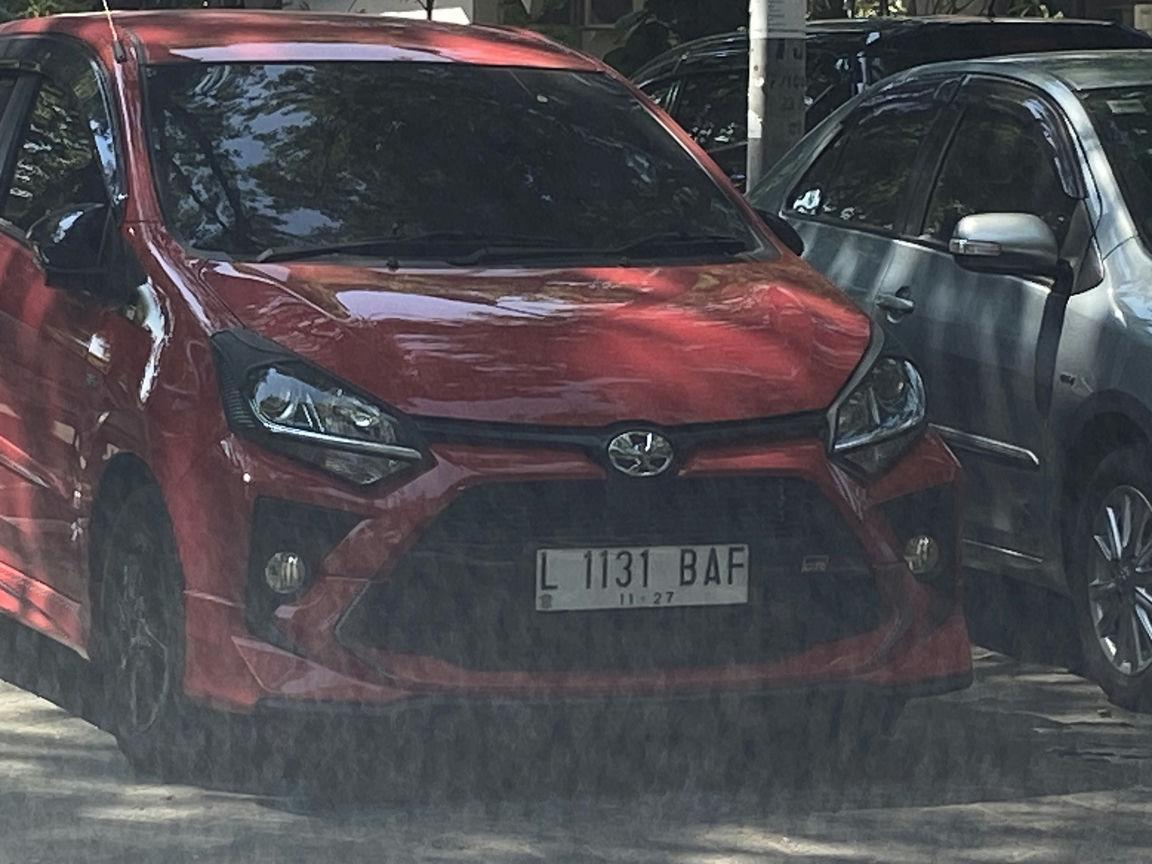plat: (536, 544, 749, 612)
